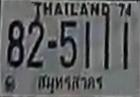1: (123, 21, 129, 71), (85, 21, 90, 69), (105, 20, 109, 71)
2: (26, 20, 44, 68)
5: (59, 20, 76, 67)
8: (6, 19, 23, 66)
SKN: (34, 72, 105, 93)
